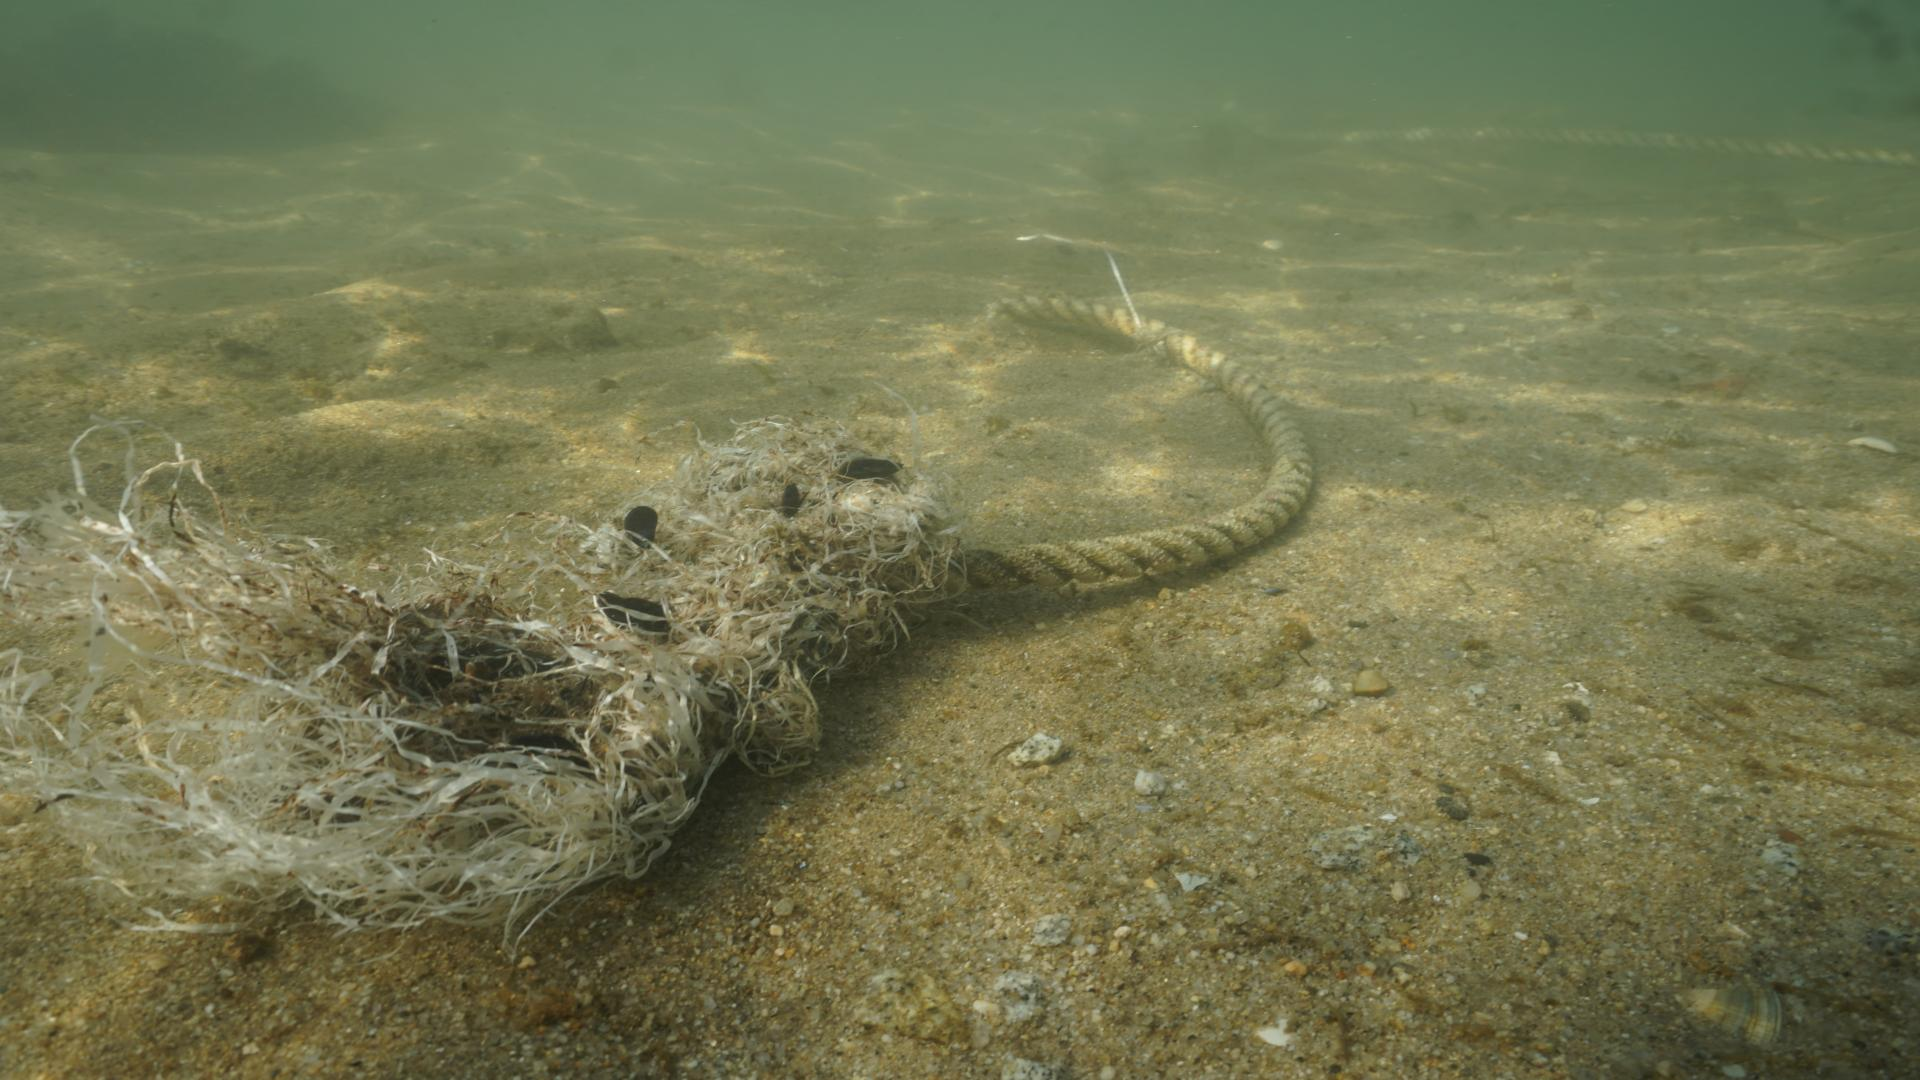rope: (907, 286, 1323, 596)
